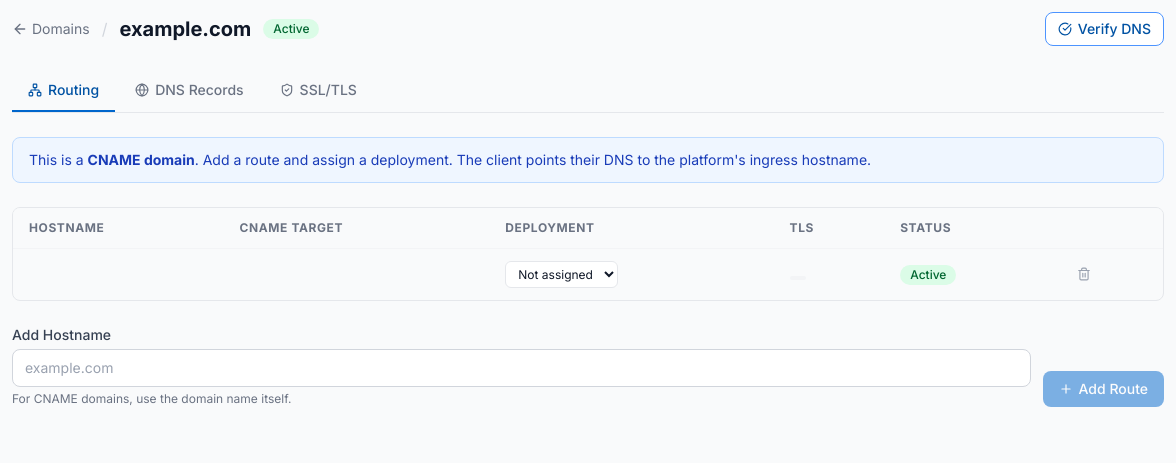
Test: DNS Records tab › has an Add Record button that shows form
Step 1. Click the button with test id "tab-dns" → click(189, 91), box [119,70,260,112]
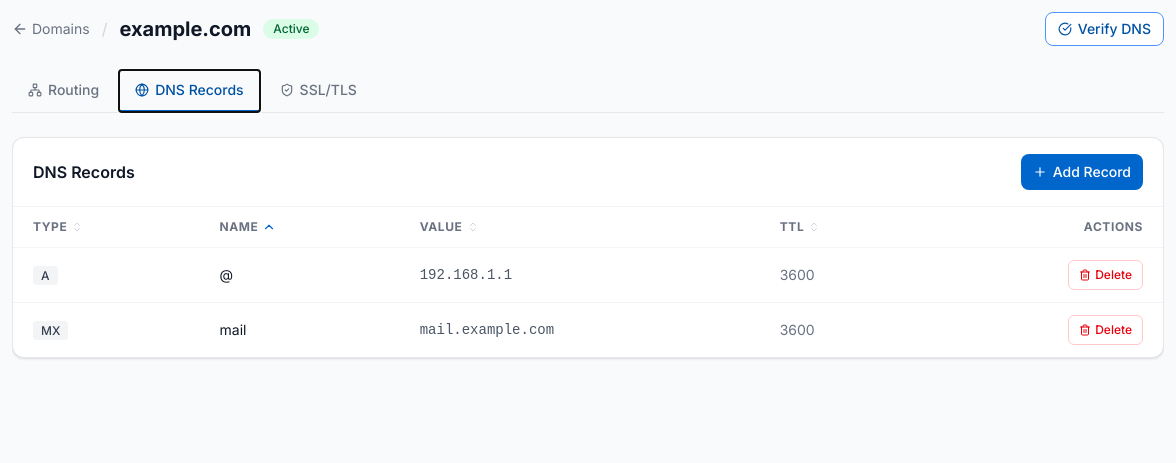
Check: the button with test id "add-dns-record-button" is shown
Step 2. Click the button with test id "add-dns-record-button" → click(1082, 172), box [1021,154,1143,190]
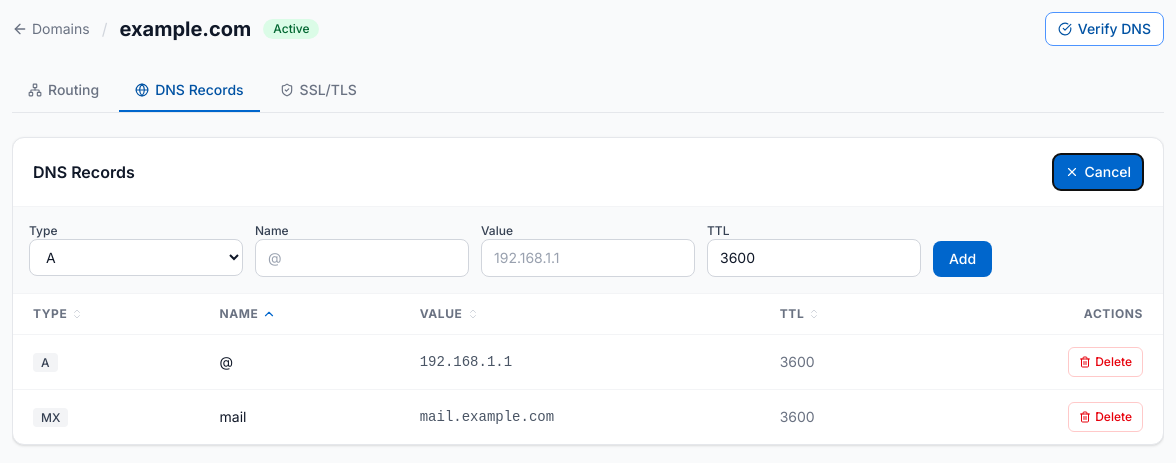
Check: the form with test id "dns-record-form" is shown, box [13,207,1163,294]
Check: the dropdown with test id "dns-type-select" is shown, box [29,239,243,276]
Check: the field with test id "dns-value-input" is shown, box [481,239,695,277]
